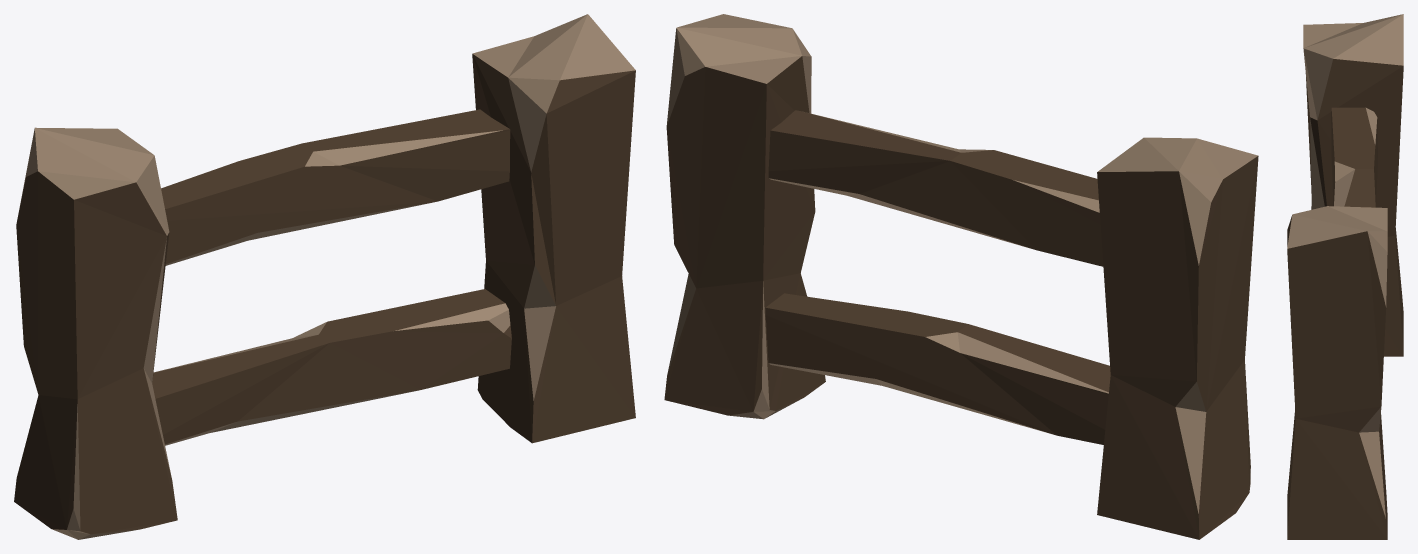
File: Railing_B_01.FBX
The picture shows the model from 3 angles, left to right: view 1: azimuth 30°, elevation 25°; view 2: azimuth 150°, elevation 25°; view 3: azimuth 270°, elevation 25°; orthographic projection. The views are drawn at different scales.
Parts seen in each view (by area): view 1: Railing_B_01; view 2: Railing_B_01; view 3: Railing_B_01.
Part boxes in pixels (box(x1,y1,x2,y2)): Railing_B_01: box(14, 14, 635, 539); Railing_B_01: box(664, 14, 1258, 539); Railing_B_01: box(1287, 14, 1403, 539).
Bounding box in the file's own units: 1.79 × 1.14 × 0.3915.
